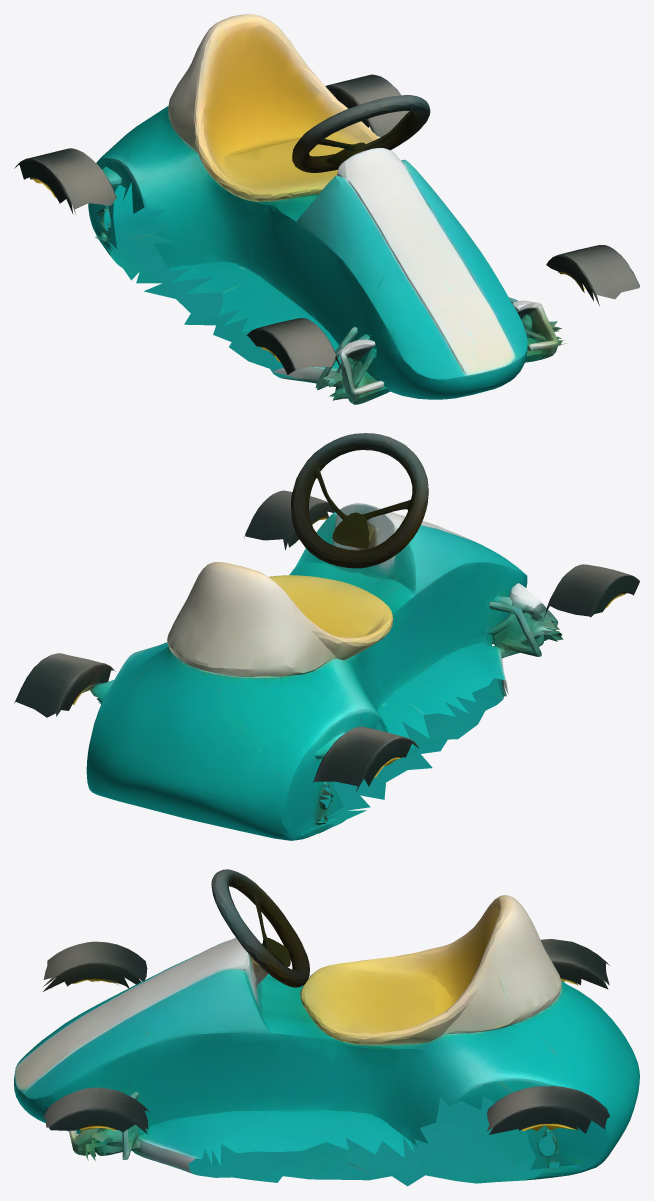
Rendered from kart.glb.
The picture shows the model from 3 angles, top to bottom: view 1: azimuth 30°, elevation 25°; view 2: azimuth 150°, elevation 25°; view 3: azimuth 270°, elevation 25°; orthographic projection.
Visible parts, largest first — view 1: model; view 2: model; view 3: model.
Boxes of the visible parts, x1=… form: model: x1=14, y1=14, x2=639, y2=404; model: x1=14, y1=433, x2=639, y2=840; model: x1=14, y1=869, x2=639, y2=1186.
Size of the model in its own units: 1.21 by 0.8298 by 1.9.
1 material, 1 textured.
